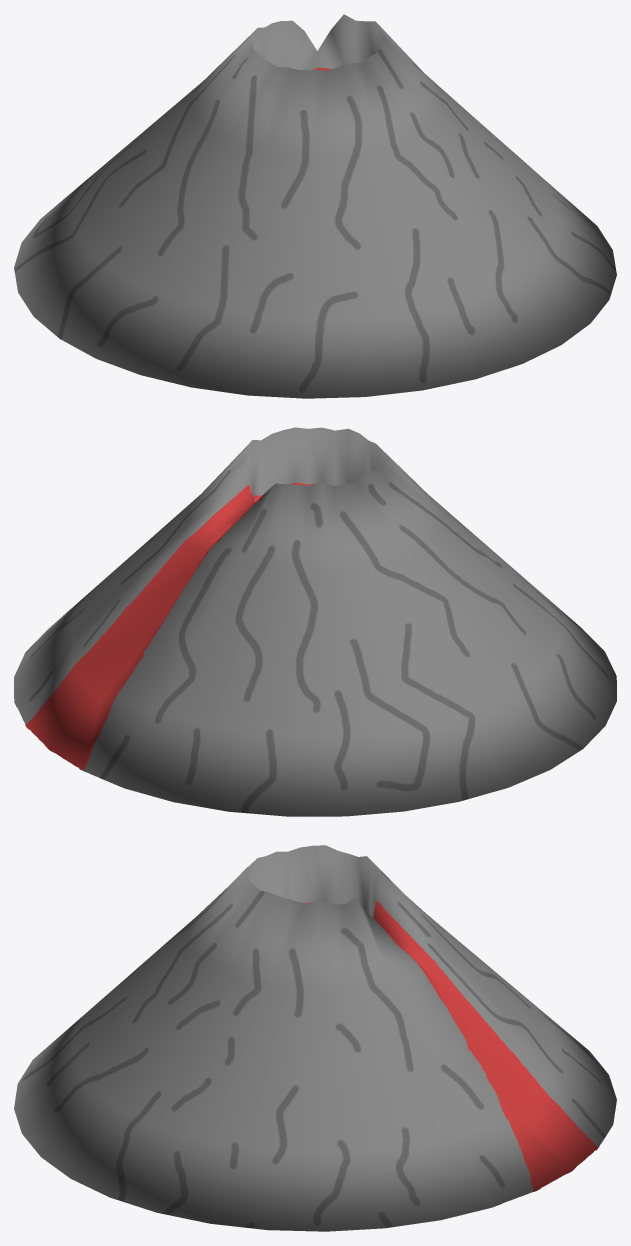
Rendered from mountain.obj.
The picture shows the model from 3 angles, top to bottom: view 1: azimuth 30°, elevation 25°; view 2: azimuth 150°, elevation 25°; view 3: azimuth 270°, elevation 25°; orthographic projection.
Visible parts, largest first — view 1: 円錐; view 2: 円錐; view 3: 円錐.
Boxes of the visible parts, <box> form: 円錐: <box>14,14,616,398</box>; 円錐: <box>14,427,616,816</box>; 円錐: <box>14,845,616,1231</box>.
Bounding box in the file's own units: 78.4 × 33.58 × 78.4.
1 material, 1 textured.
